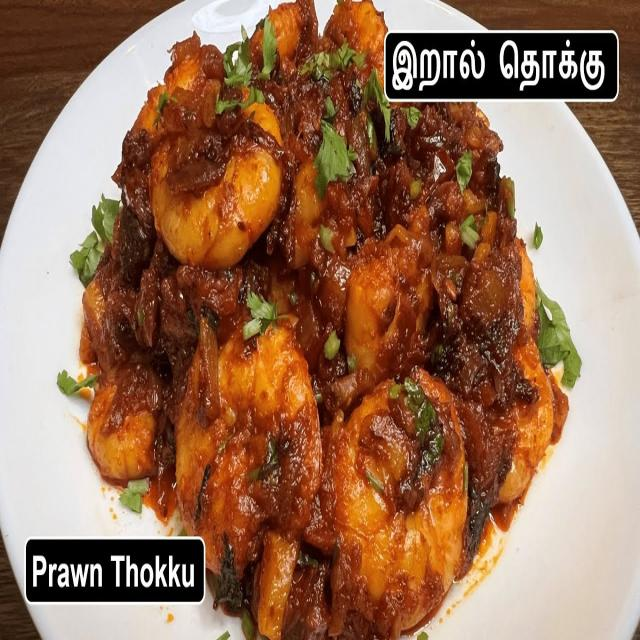prawn thokku: (79, 13, 551, 629)
